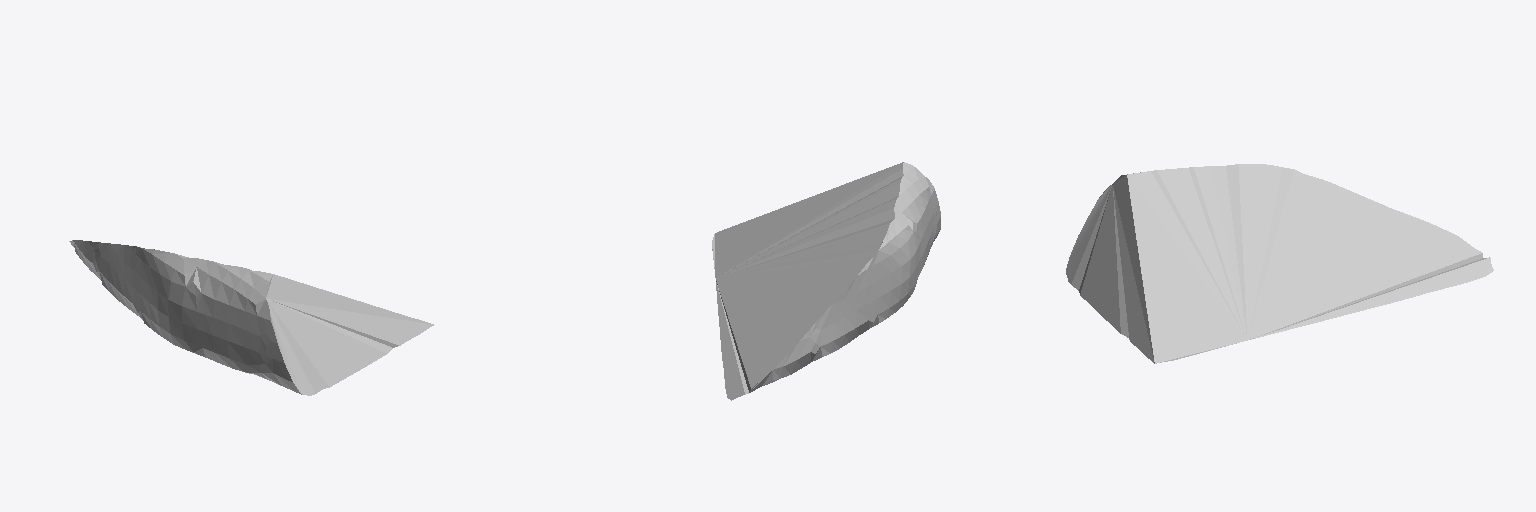
The model's file is low_cell_055.obj.
3 views of the same model, side by side, from view 1: azimuth 30°, elevation 25°; view 2: azimuth 150°, elevation 25°; view 3: azimuth 270°, elevation 25° (orthographic).
Visible parts, largest first — view 1: low_cell.055_low_cell.054; view 2: low_cell.055_low_cell.054; view 3: low_cell.055_low_cell.054.
Part boxes in pixels (x1,y1,x2,y2): low_cell.055_low_cell.054: (69,240,433,395); low_cell.055_low_cell.054: (712,162,940,400); low_cell.055_low_cell.054: (1066,164,1493,363).
Size of the model in its own units: 0.2758 by 0.1192 by 0.4415.